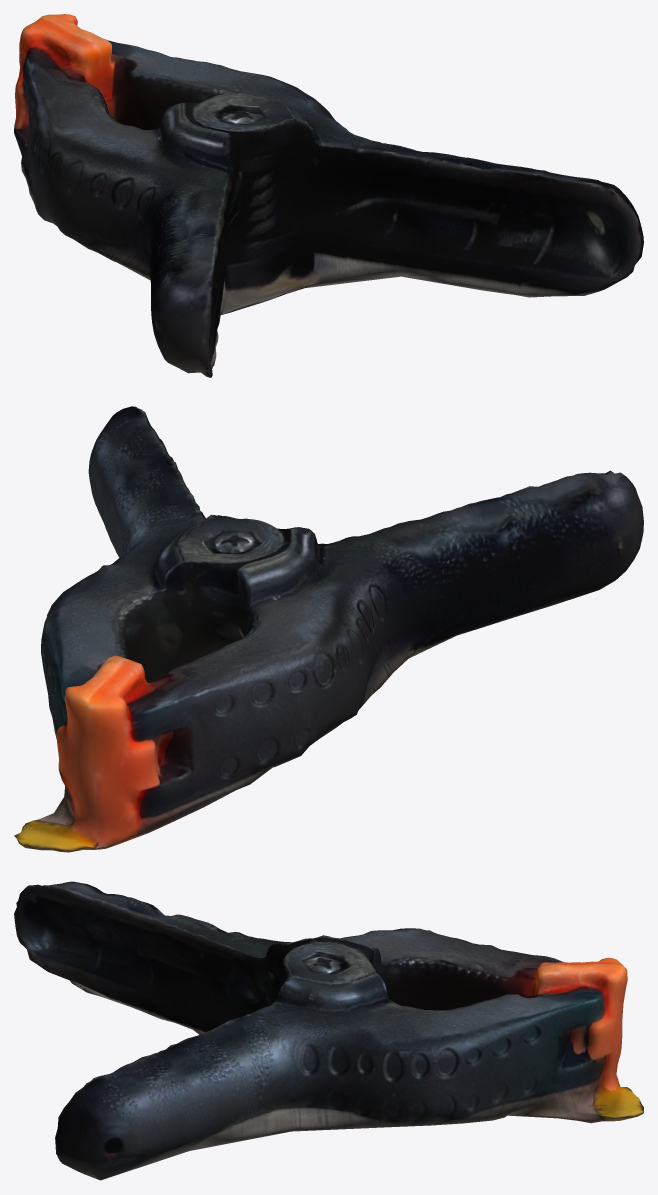
File: clipper.obj
3 renders of one model, top to bottom at view 1: azimuth 30°, elevation 25°; view 2: azimuth 150°, elevation 25°; view 3: azimuth 270°, elevation 25°, orthographic. The views are drawn at different scales.
Parts seen in each view (by area): view 1: mesh_0; view 2: mesh_0; view 3: mesh_0.
Part boxes in pixels (bbox=[...]): mesh_0: bbox=[14, 14, 643, 377]; mesh_0: bbox=[14, 406, 643, 852]; mesh_0: bbox=[14, 881, 643, 1180].
Bounding box in the file's own units: 0.0901 × 0.0311 × 0.1149.
1 material, 1 textured.
